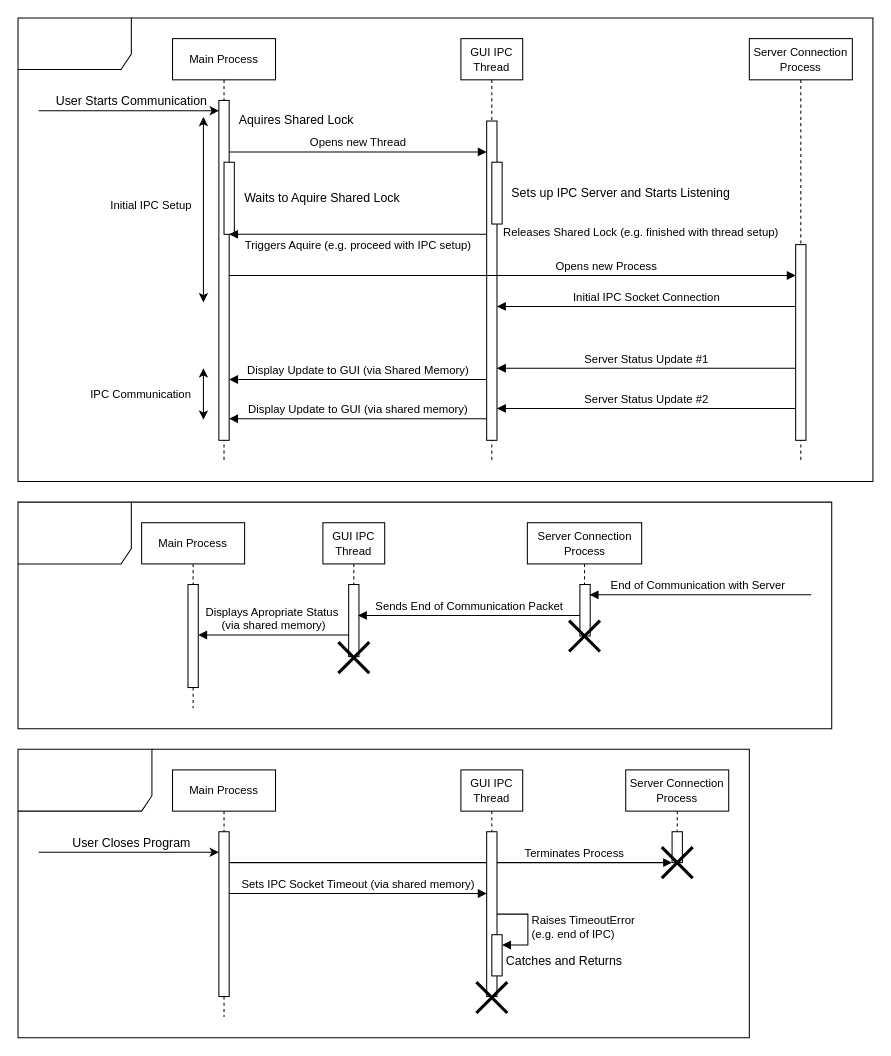
Some shapes in this 891 by 1056 pixel diagram are drawn without their labels. The shapes that lost their labels are listed below. From the top down, each one's box as (x1, y1, x2, y2) in pixels, then its label:
(17, 17, 873, 482): Start of IPC Communication
(17, 501, 832, 729): Communication with Server Ends
(17, 748, 749, 1038): User Closes Program while Communicating with the Server
